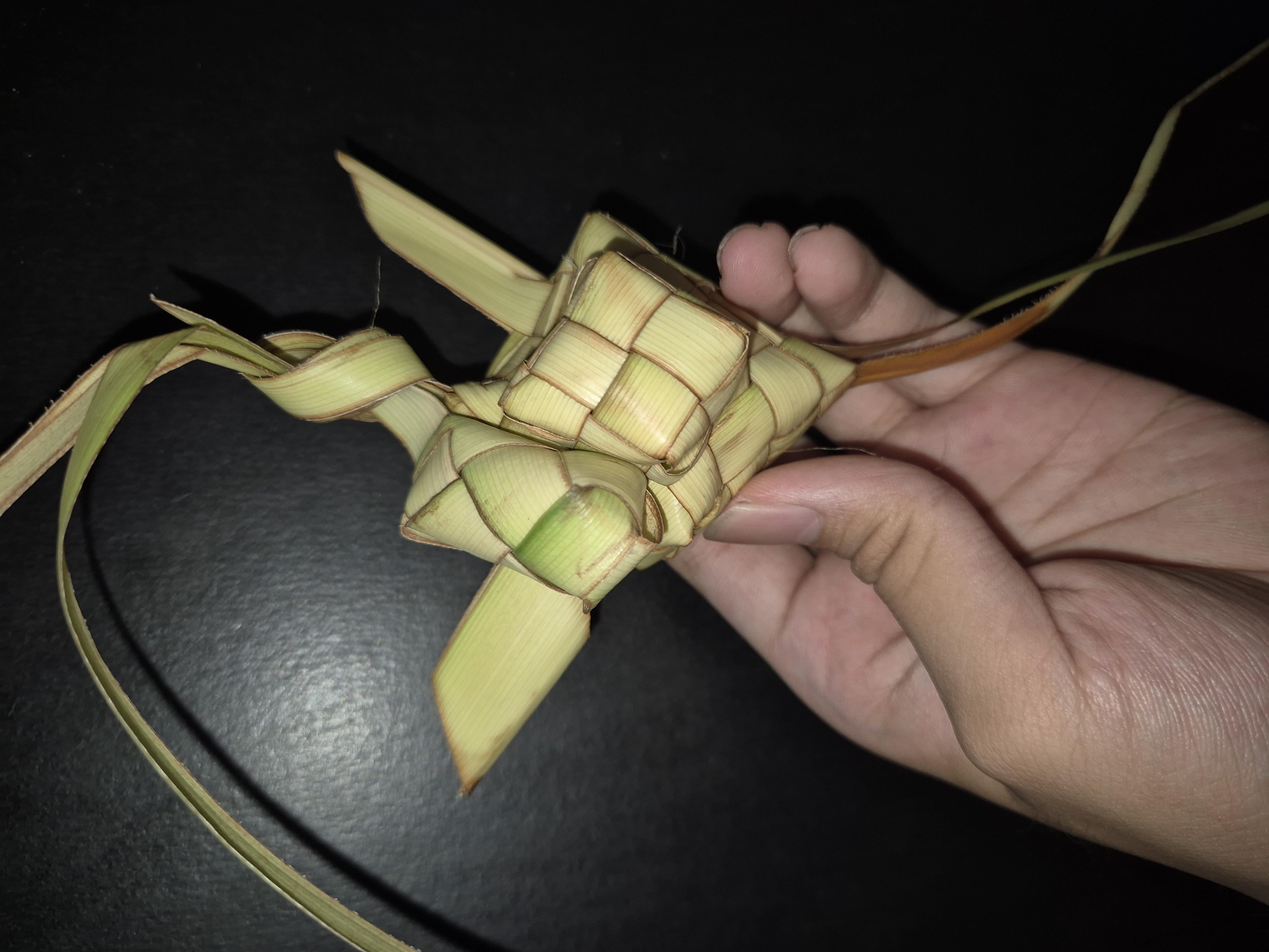Tipat Gong: (560, 368, 983, 641)
